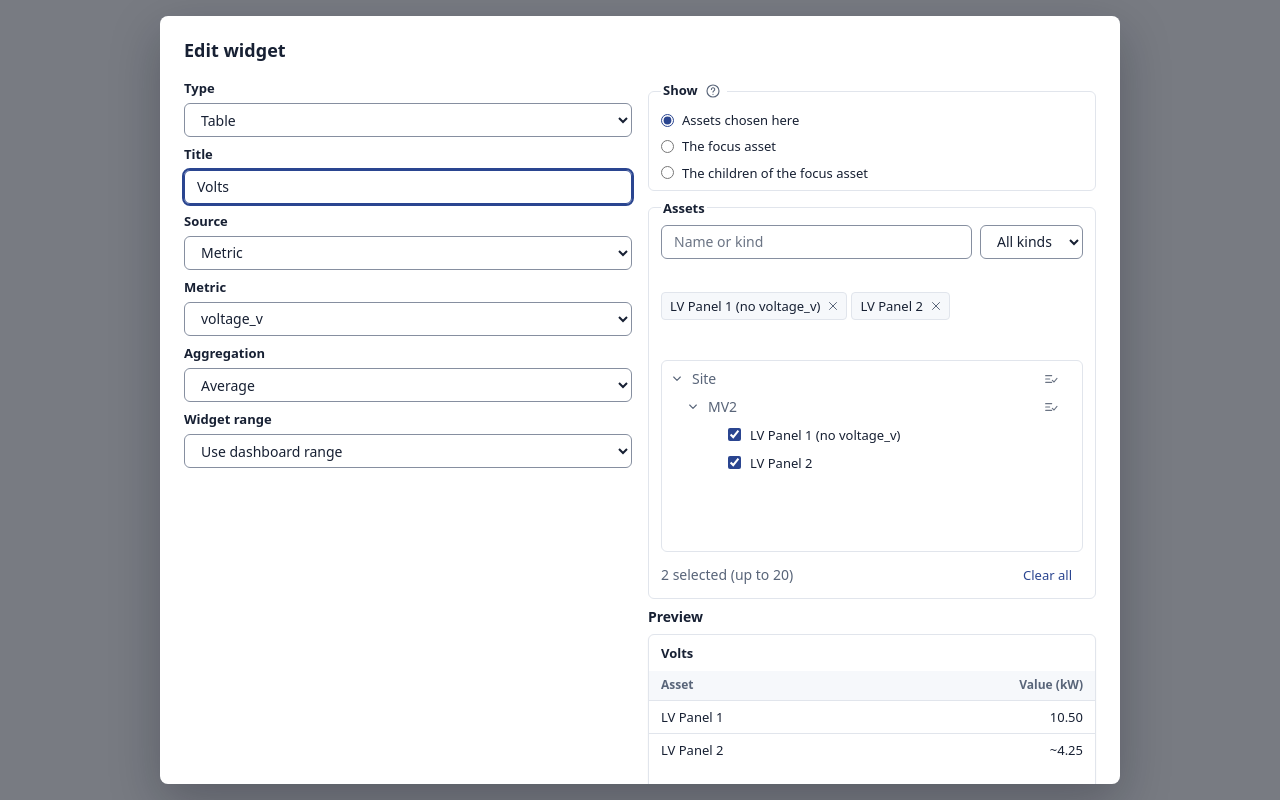
Test: which assets a metric widget may list › keeps an asset of a saved widget that lacks the metric: shown, checked, labelled, and removable
Expected: the checkbox labelled "LV Panel 2" is checked, left=728, top=456, right=741, bottom=469
Click the checkbox labelled "LV Panel 1 (no voltage_v)" at (734, 435), box left=728, top=428, right=741, bottom=441
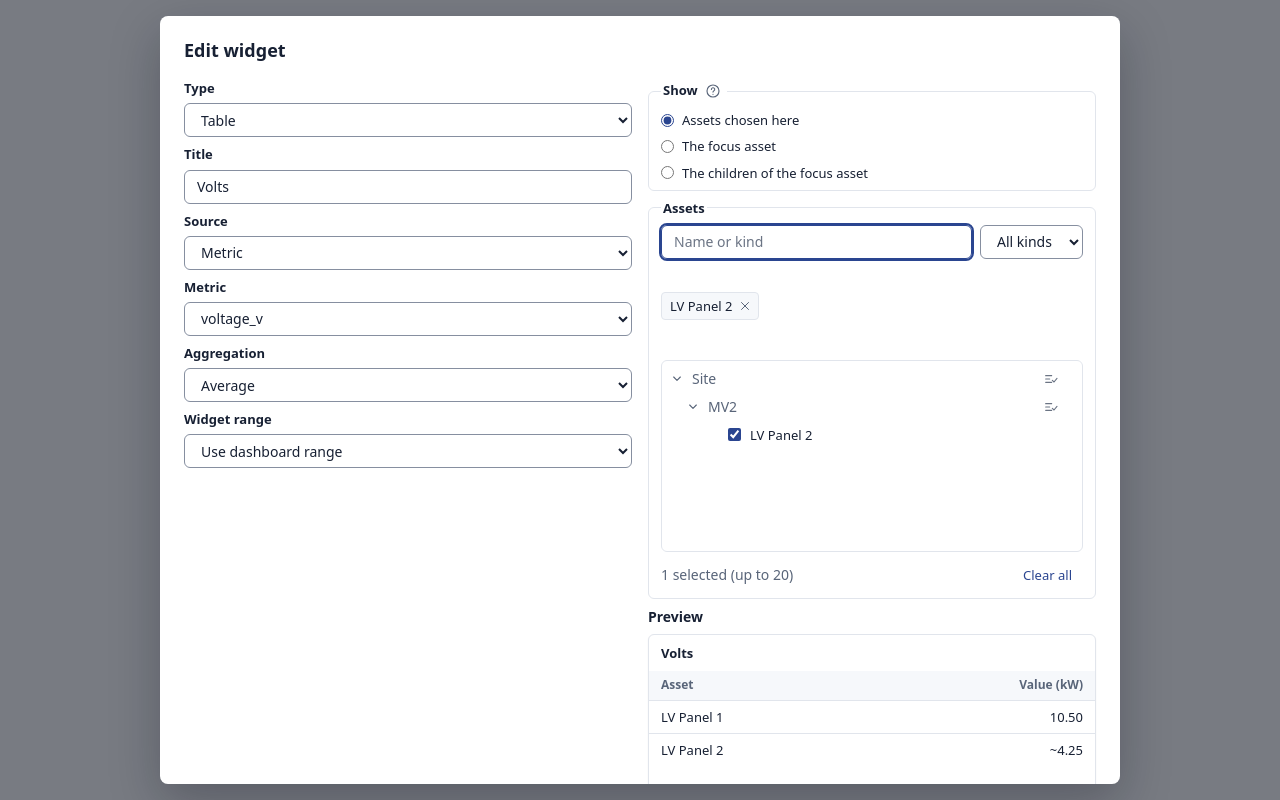
Result: the text "1 selected (up to 20)" is shown at left=661, top=565, right=793, bottom=584
